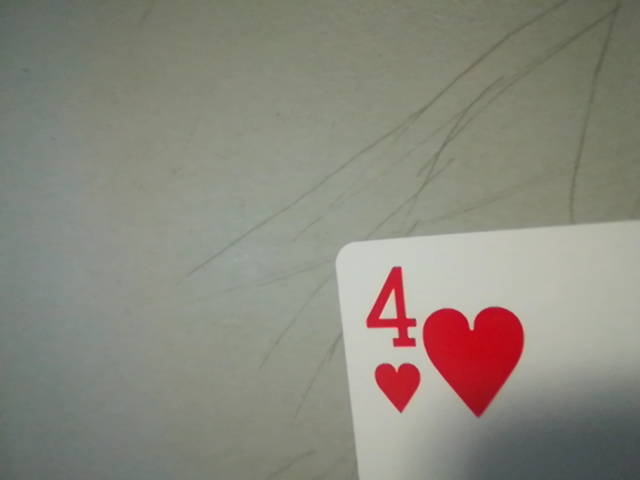hx 4: (355, 255, 428, 419)
